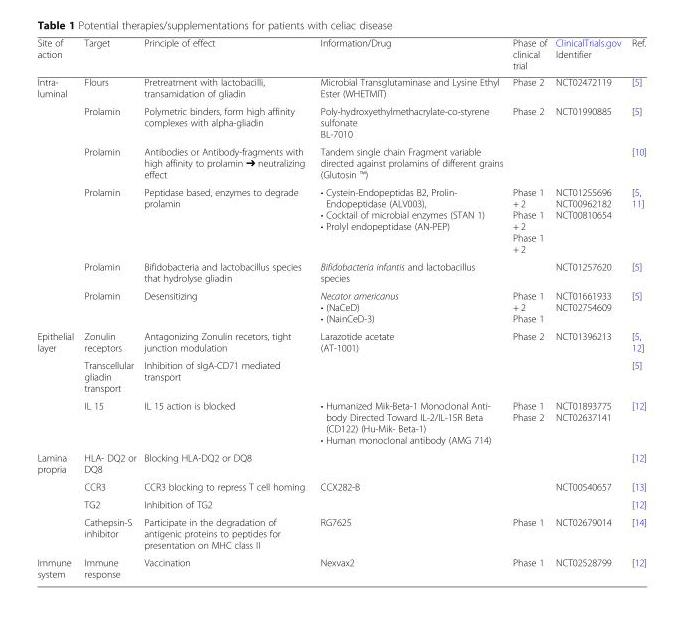table: (36, 36, 645, 579)
table column: (311, 36, 507, 579), (139, 36, 311, 579), (550, 36, 625, 579), (78, 36, 139, 579), (507, 36, 550, 579), (36, 36, 78, 579), (625, 36, 645, 579)
table column header: (36, 36, 645, 73)
table row: (36, 182, 645, 257), (36, 396, 645, 448), (36, 101, 645, 142), (36, 286, 645, 327), (36, 512, 645, 553), (36, 142, 645, 182), (36, 356, 645, 396), (36, 36, 645, 73), (36, 257, 645, 286), (36, 327, 645, 356), (36, 448, 645, 477), (36, 73, 645, 101), (36, 553, 645, 579), (36, 477, 645, 495), (36, 495, 645, 512)
table spanning cell: (36, 73, 78, 327), (36, 327, 78, 448), (36, 448, 78, 553)
